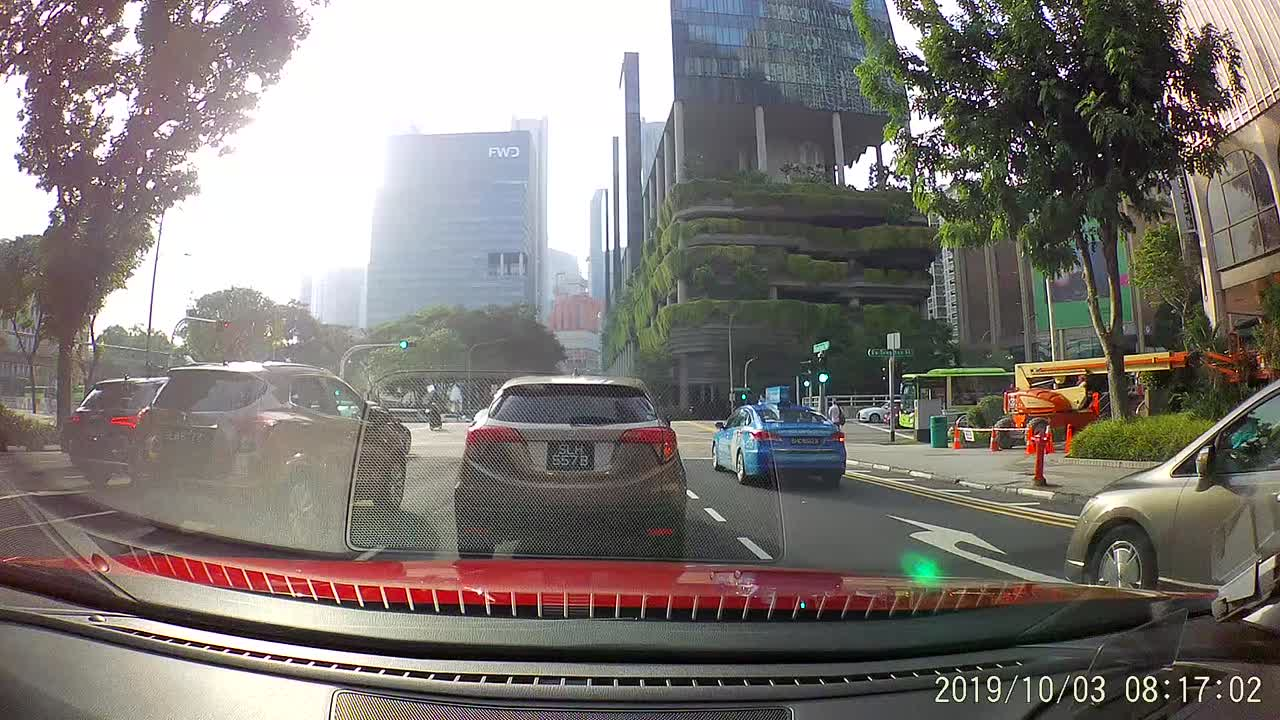bus: (899, 369, 1016, 430)
car: (137, 356, 409, 546), (453, 367, 690, 561), (1072, 359, 1279, 581), (710, 395, 848, 490), (58, 371, 138, 486), (857, 396, 897, 422)
